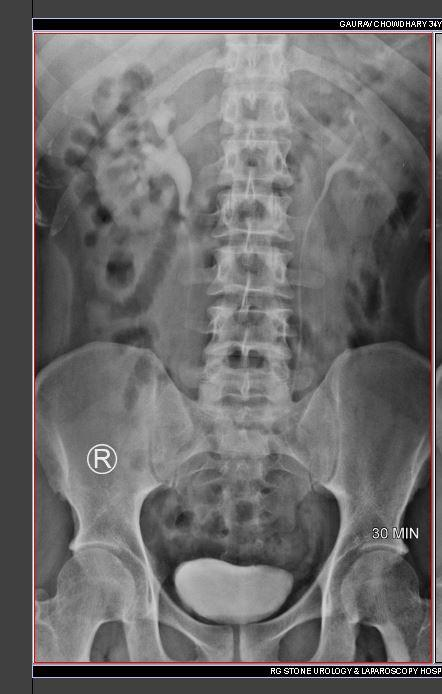bladder: (146, 562, 285, 646)
left kidney: (307, 76, 400, 232)
right kidney: (62, 81, 176, 238)
vertebrae: (203, 118, 284, 181)
